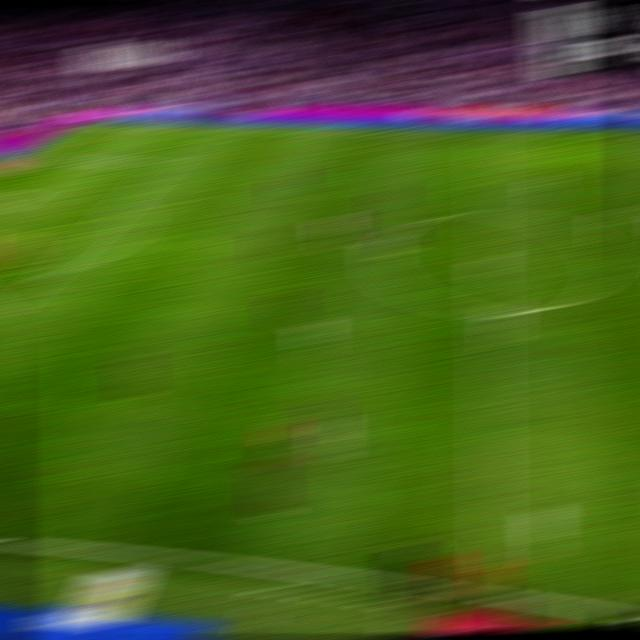bigarea_top_inner: (154, 157, 180, 168)
bigarea_top_outter: (22, 152, 48, 161)
bottom_arc_area_intersection: (34, 267, 61, 280)
corner: (75, 121, 100, 126)
halfcircle_bottom: (474, 300, 504, 321)
halfcircle_top: (473, 203, 504, 222)
midline_top_intersection: (474, 126, 500, 137)
smallarea_top_inner: (14, 191, 36, 198)
top_arc_area_intersection: (109, 200, 134, 211)
